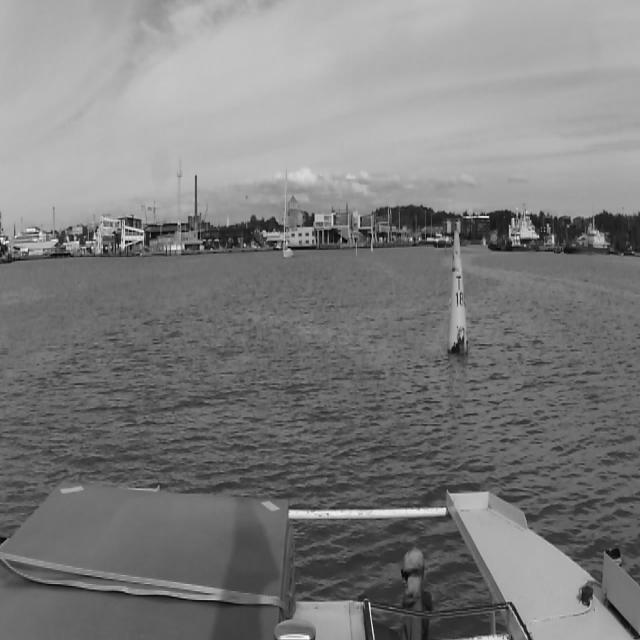buoy: (444, 224, 470, 373), (370, 238, 374, 254), (355, 242, 358, 257)
ship: (488, 205, 540, 252), (564, 214, 612, 258), (282, 168, 296, 260), (433, 235, 453, 249)
